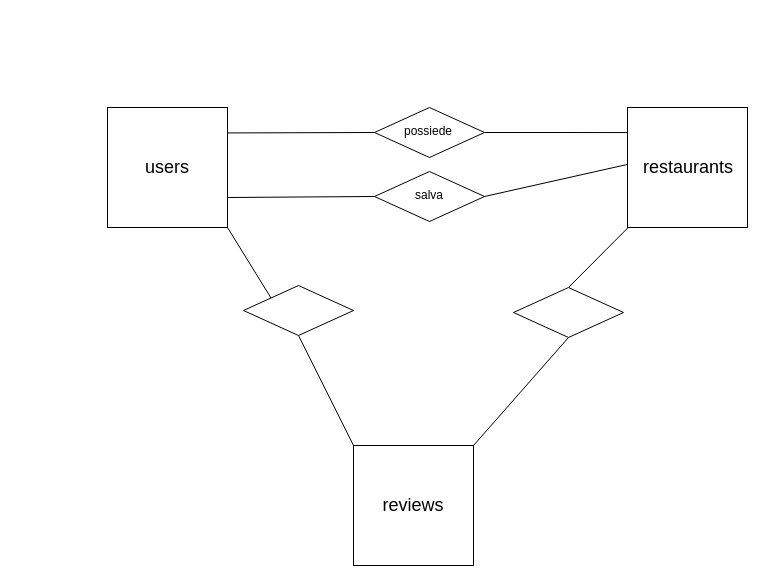
Image size: 766x583. Some labels were removed from this diagram. The centre of each missing label's shape, as x and y in pixels:
ha: the point at 568,312
scrive: the point at 298,310
